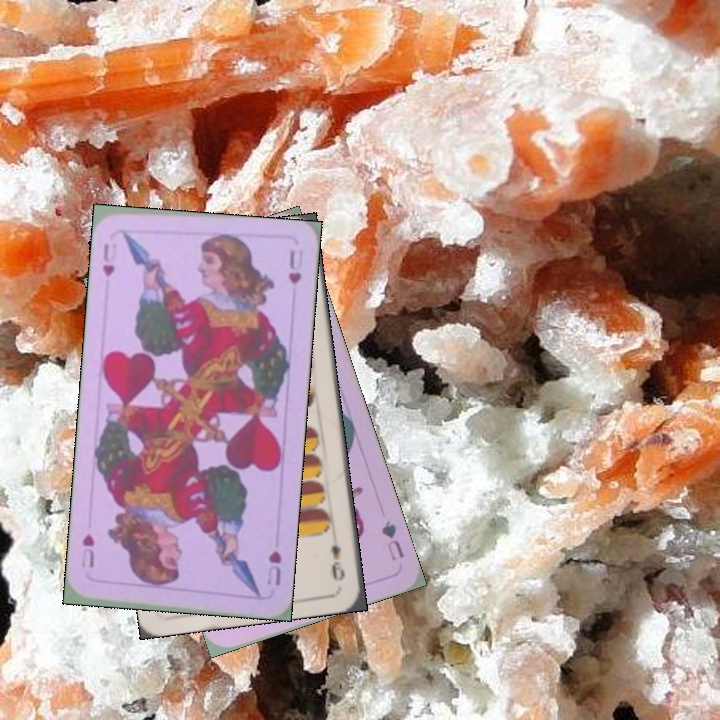E9: (326, 541, 347, 584)
GU: (377, 516, 407, 563)
HU: (263, 547, 284, 588), (99, 239, 117, 280)
